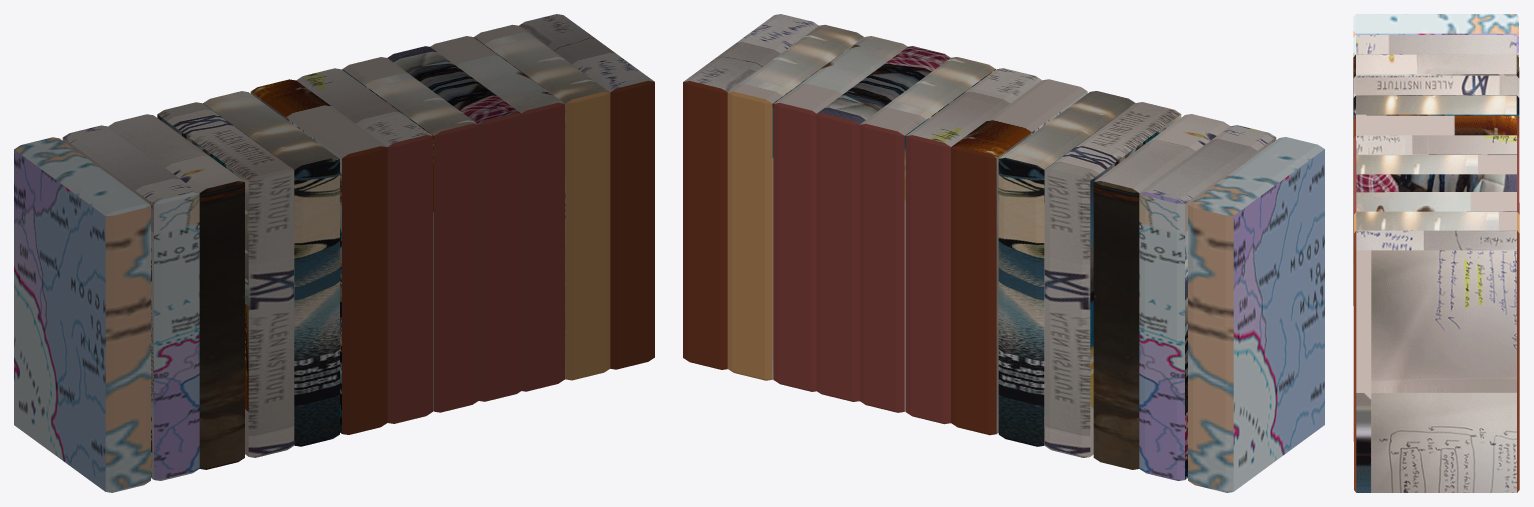
File: Books_dcd801ae.obj
3 views of the same model, side by side, from view 1: azimuth 30°, elevation 25°; view 2: azimuth 150°, elevation 25°; view 3: azimuth 270°, elevation 25° (orthographic). The views are drawn at different scales.
Parts seen in each view (by area): view 1: Books_dcd801ae; view 2: Books_dcd801ae; view 3: Books_dcd801ae.
Boxes of the visible parts, left/top/right/bottom form: Books_dcd801ae: left=14, top=14, right=654, bottom=492; Books_dcd801ae: left=683, top=14, right=1324, bottom=492; Books_dcd801ae: left=1353, top=14, right=1519, bottom=492.
Size of the model in its own units: 0.4629 by 0.2261 by 0.1376.
